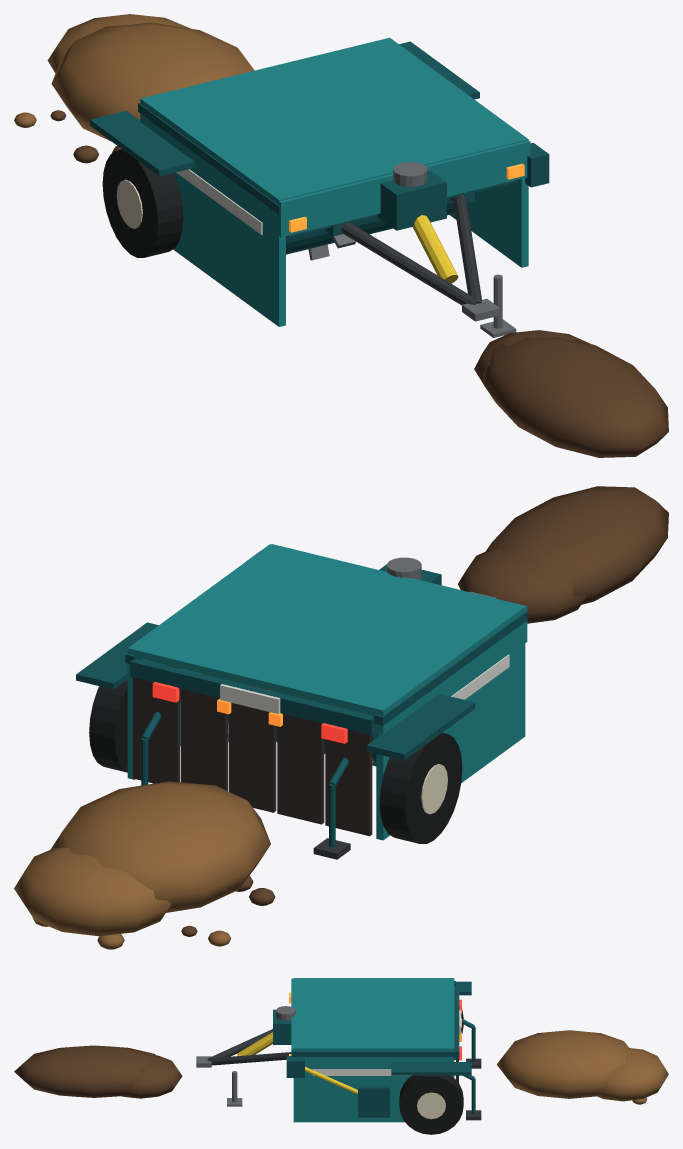
Rendered from compost_turner.glb.
3 views of the same model, one above another, from view 1: azimuth 30°, elevation 25°; view 2: azimuth 150°, elevation 25°; view 3: azimuth 270°, elevation 25° (orthographic). The views are drawn at different scales.
Visible parts, largest first — view 1: TurnerBody, TurnerProps, TurnerDrum; view 2: TurnerBody, TurnerProps; view 3: TurnerBody, TurnerProps.
Boxes of the visible parts, left/top/right/bottom form: TurnerBody: left=90, top=37, right=549, bottom=337; TurnerProps: left=14, top=14, right=668, bottom=457; TurnerDrum: left=286, top=198, right=455, bottom=260; TurnerBody: left=76, top=544, right=527, bottom=859; TurnerProps: left=14, top=486, right=668, bottom=949; TurnerBody: left=196, top=978, right=481, bottom=1134; TurnerProps: left=14, top=1030, right=668, bottom=1104.
Bounding box in the file's own units: 2.8 × 1.17 × 8.55.
